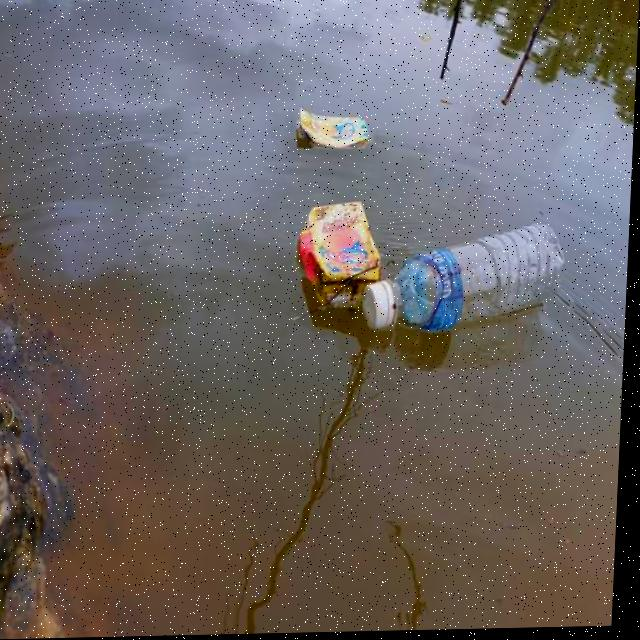paper: (270, 106, 390, 175), (304, 194, 380, 296)
waterbottle: (369, 219, 575, 360)
